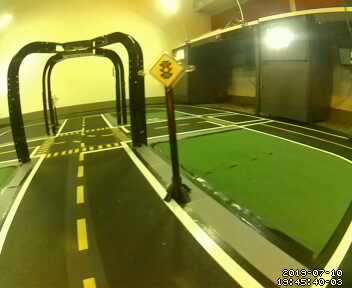Traffic light sign: (149, 52, 188, 87)
